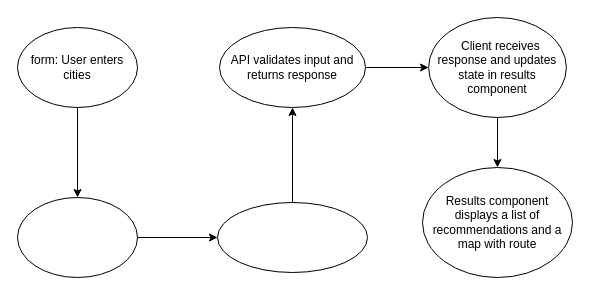
This 590x295 diagram has some shape labels left out. The centre of each missing label's shape, as x and y in pixels:
"Form fires hook" belongs at (77,237).
"hook fetch API endpoint with request data" belongs at (292,237).
